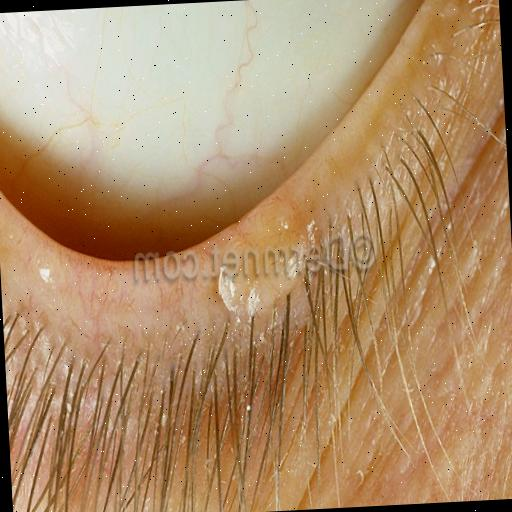Skin_Lesion: (226, 206, 324, 306)
